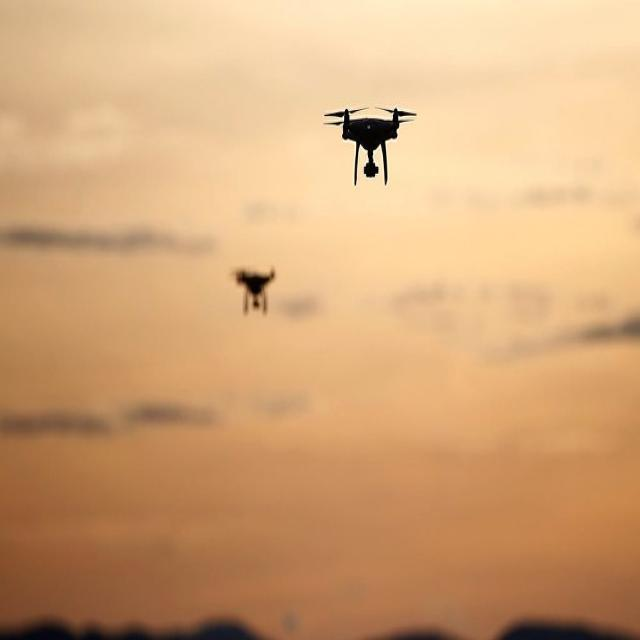drones: (315, 83, 429, 204), (224, 244, 288, 340)
